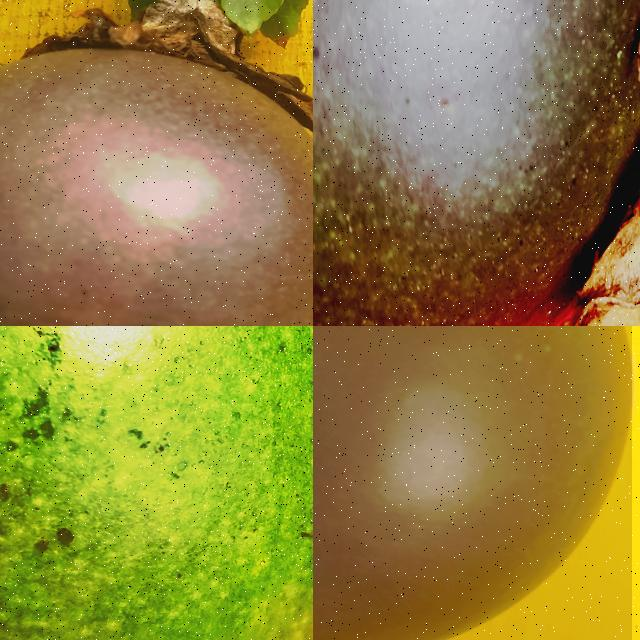Estado-1: (0, 326, 313, 640)
Estado-3: (313, 0, 640, 326)
Estado-6: (313, 326, 632, 640)
